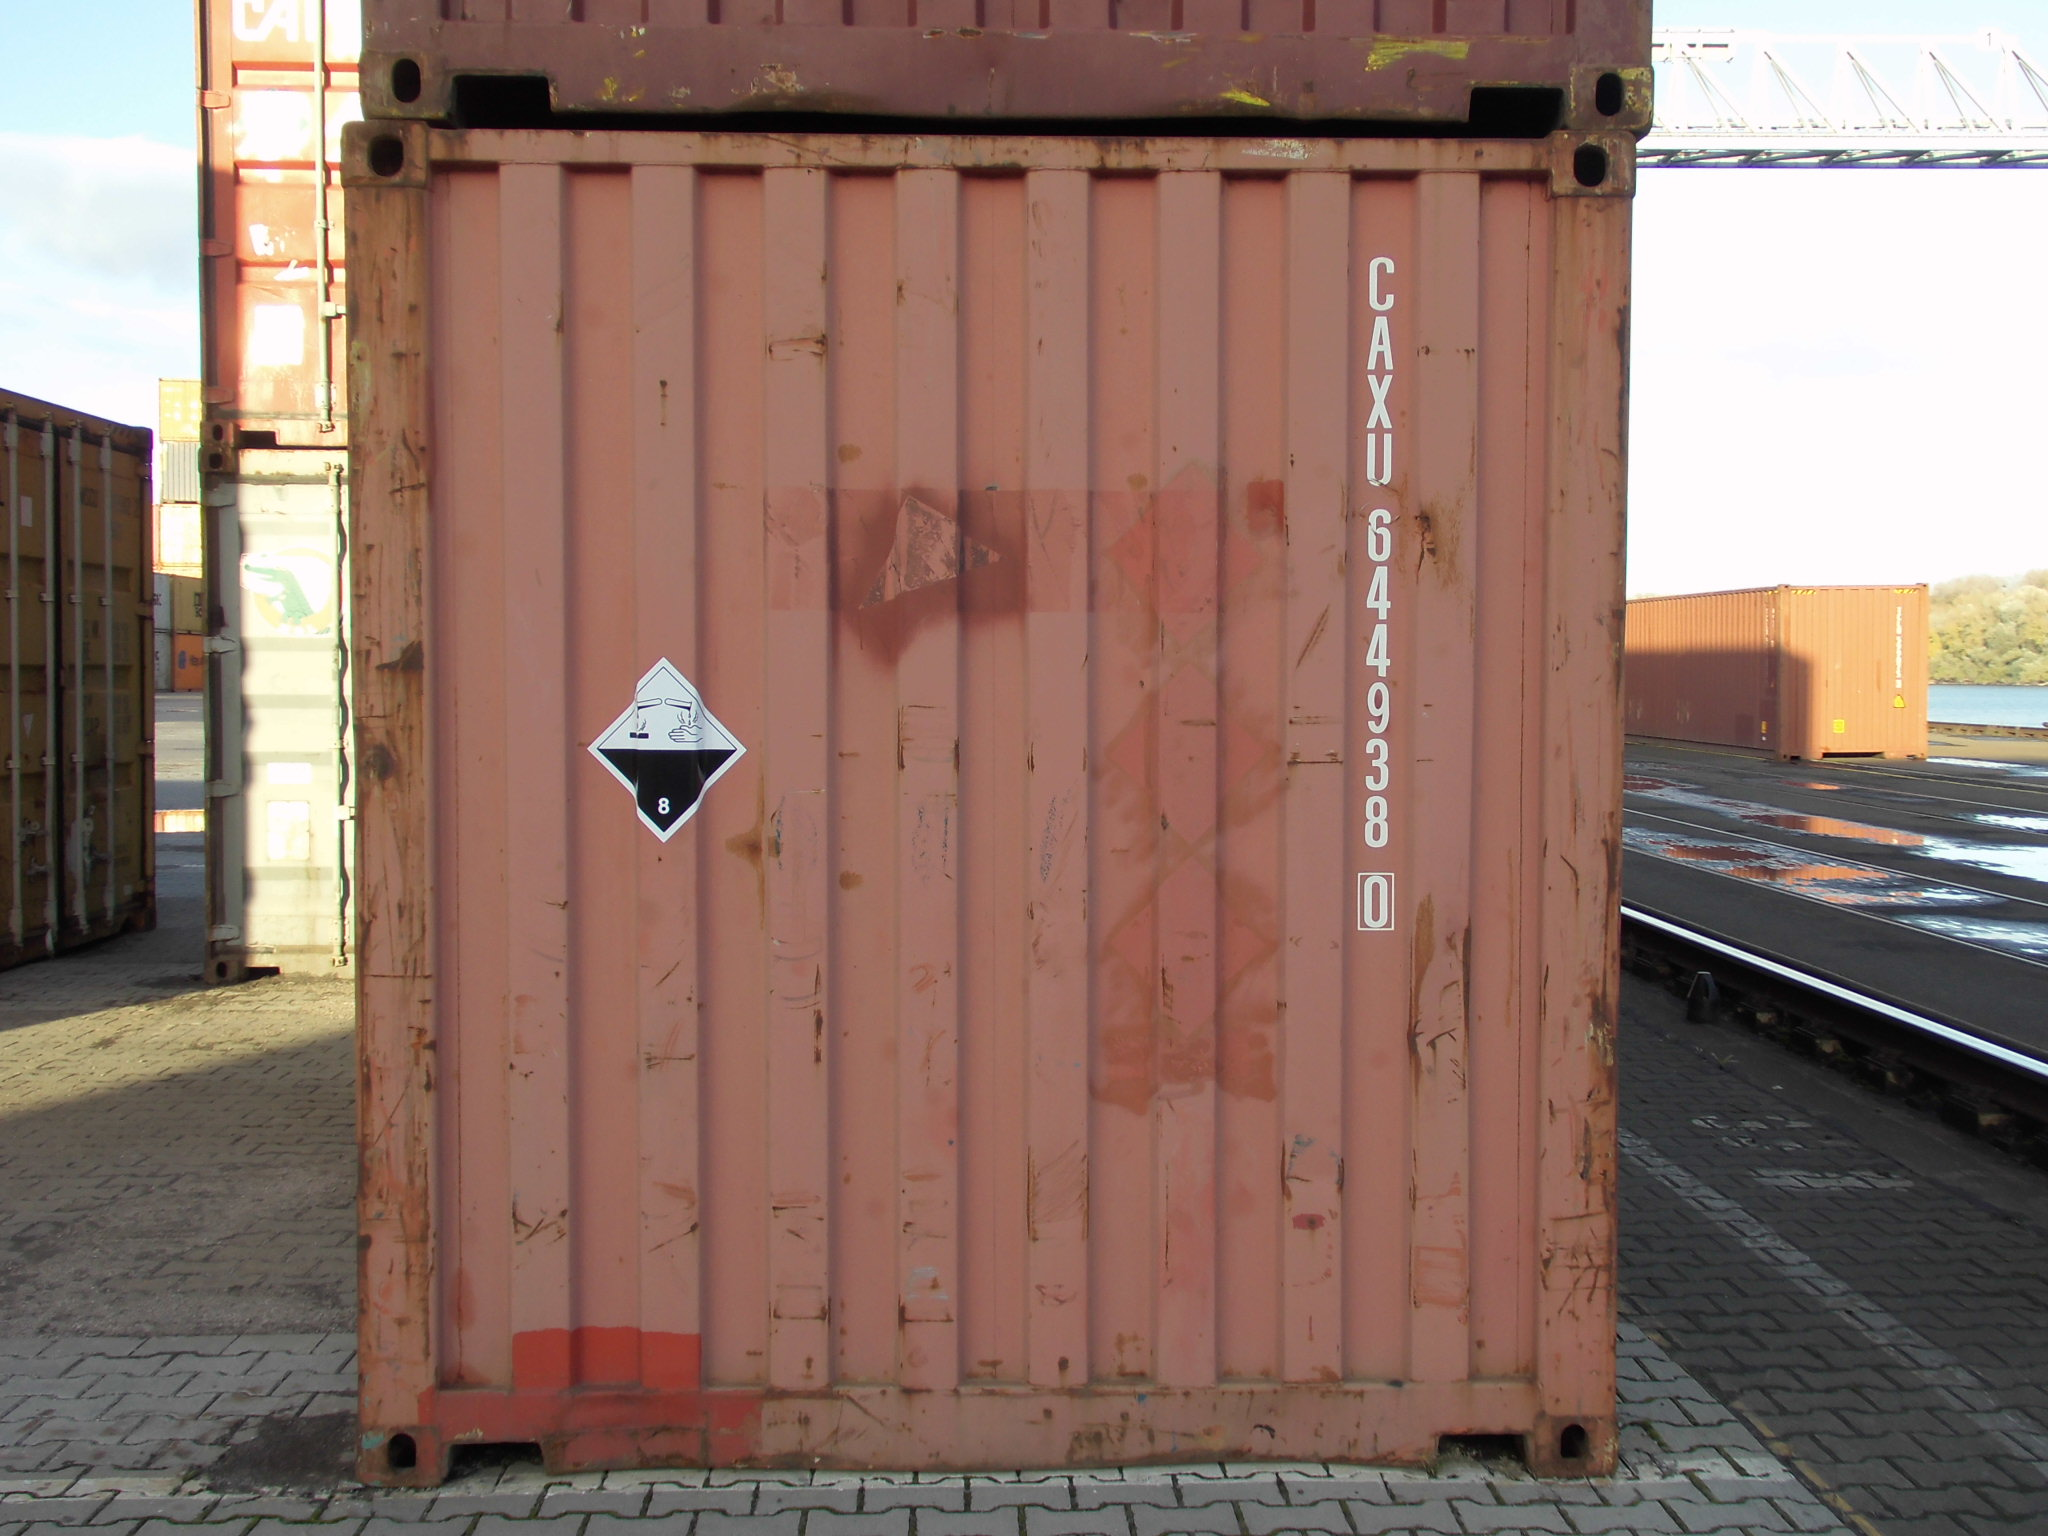container_no_door: (339, 105, 1638, 1483)
